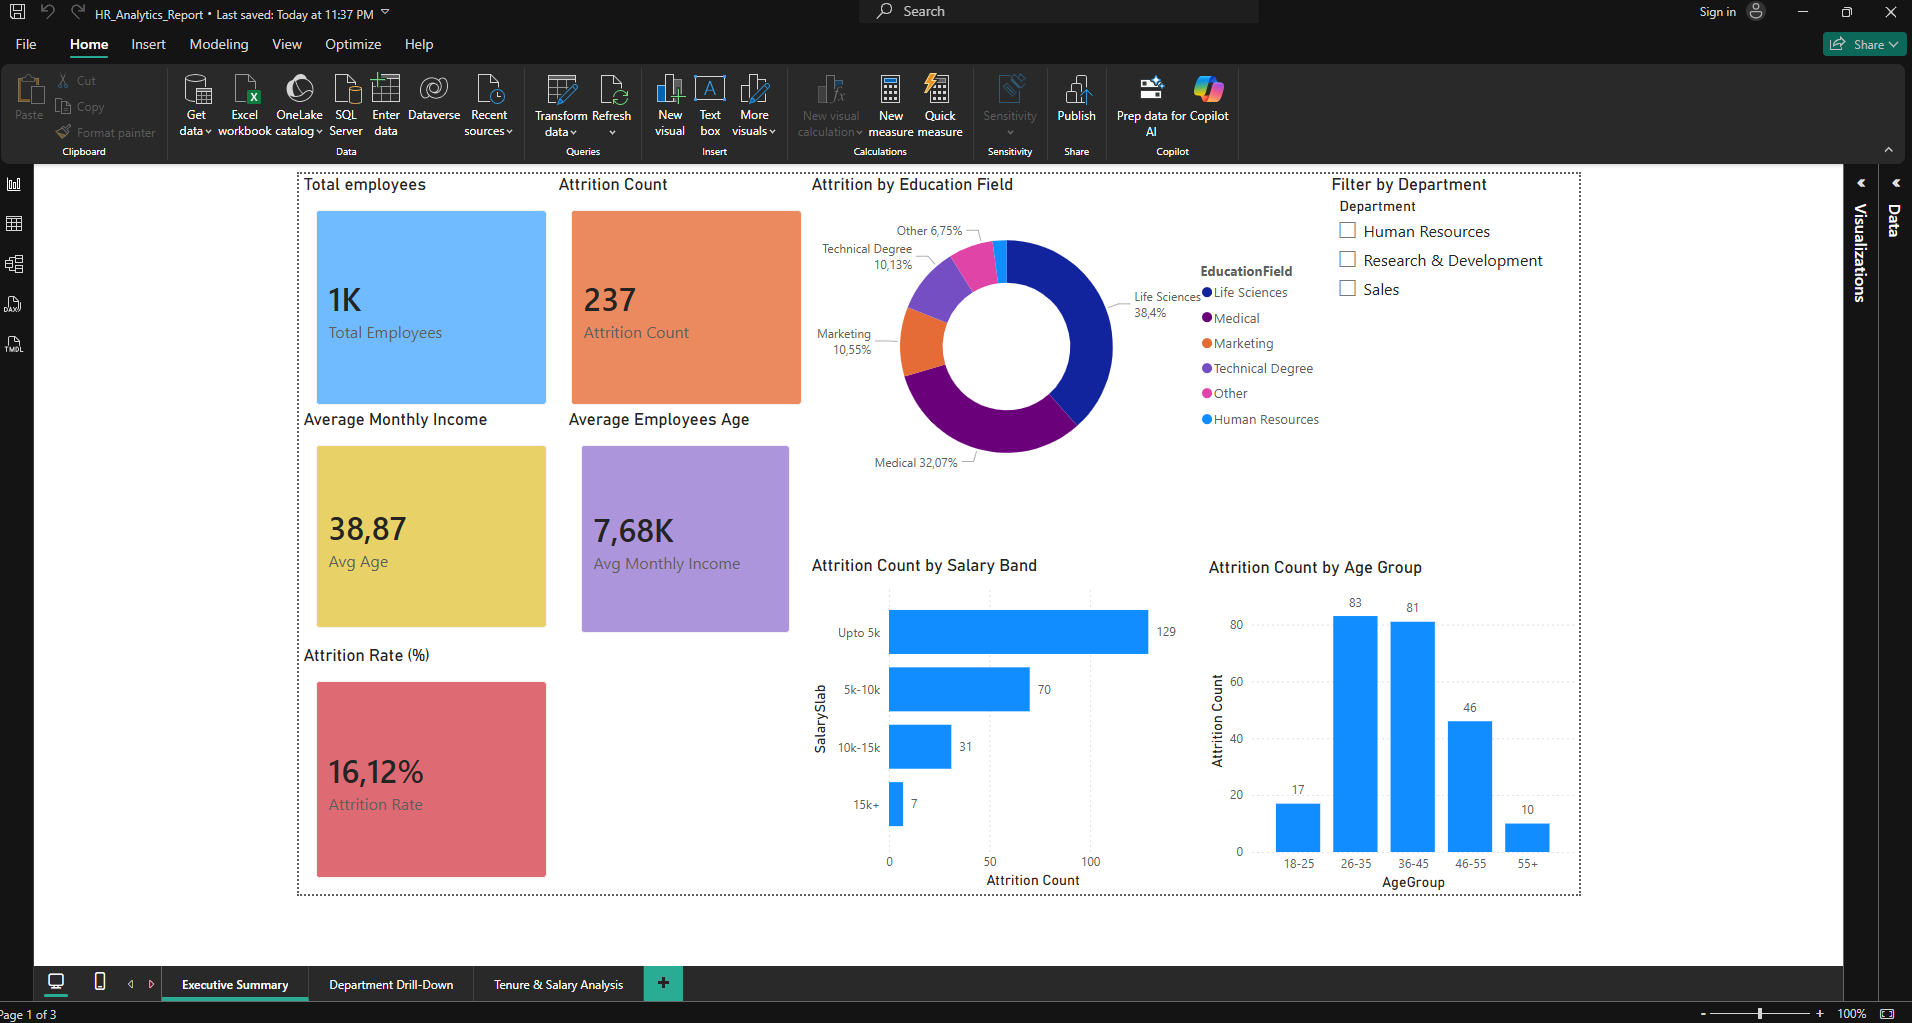

The dashboard page shown, as its layout file describes it:
{"tool":"powerbi","page":{"name":"Executive Summary","canvas":[1280,720],"ordinal":0},"visuals":[{"type":"cardVisual","title":"Total employees","fields":{"Data":["Fact_Employee.Total Employees"]},"box":[0,0,264.8,247.7],"z":0},{"type":"cardVisual","title":"Attrition Count","fields":{"Data":["Fact_Employee.Attrition Count"]},"box":[255,0,264.8,247.7],"z":1000},{"type":"cardVisual","title":"Attrition Rate (%)","fields":{"Data":["Fact_Employee.Attrition Rate"]},"box":[0,470.8,264.8,250.1],"z":2000},{"type":"cardVisual","title":"Average Employees Age","fields":{"Data":["Fact_Employee.Avg Monthly Income"]},"box":[264.8,235.4,242.8,240.3],"z":3000},{"type":"cardVisual","title":"Average Monthly Income","fields":{"Data":["Fact_Employee.Avg Age"]},"box":[0,235.4,264.8,235.4],"z":4000},{"type":"donutChart","title":"Attrition by Education Field","fields":{"Y":["Fact_Employee.Attrition Count"],"Category":["Dim_Education.EducationField"]},"box":[507.8,0,526.9,326.4],"z":5000},{"type":"clusteredColumnChart","title":"Attrition Count by Age Group","fields":{"Y":["Fact_Employee.Attrition Count"],"Category":["Dim_AgeGroup.AgeGroup"]},"box":[904.8,382.5,375.2,338.4],"z":6000},{"type":"clusteredBarChart","title":"Attrition Count by Salary Band","fields":{"Category":["Dim_SalarySlab.SalarySlab"],"Y":["Fact_Employee.Attrition Count"]},"box":[507.8,380.8,385.4,338.5],"z":7000},{"type":"slicer","title":"Filter by Department","fields":{"Values":["Dim_Department.Department"]},"box":[1028.3,0,252.1,136.9],"z":8000}]}

Visuals, with their boxes on the page's 1280x720 design canvas (x1, y1, x2, y2). These are canvas units, not pixel positions in the 1912x1023 screenshot, which may show the page scaled, cropped or inside an application window:
"Total employees" cardVisual: {"left": 0, "top": 0, "right": 265, "bottom": 248}
"Attrition Count" cardVisual: {"left": 255, "top": 0, "right": 520, "bottom": 248}
"Attrition Rate (%)" cardVisual: {"left": 0, "top": 471, "right": 265, "bottom": 721}
"Average Employees Age" cardVisual: {"left": 265, "top": 235, "right": 508, "bottom": 476}
"Average Monthly Income" cardVisual: {"left": 0, "top": 235, "right": 265, "bottom": 471}
"Attrition by Education Field" donutChart: {"left": 508, "top": 0, "right": 1035, "bottom": 326}
"Attrition Count by Age Group" clusteredColumnChart: {"left": 905, "top": 382, "right": 1280, "bottom": 721}
"Attrition Count by Salary Band" clusteredBarChart: {"left": 508, "top": 381, "right": 893, "bottom": 719}
"Filter by Department" slicer: {"left": 1028, "top": 0, "right": 1280, "bottom": 137}
